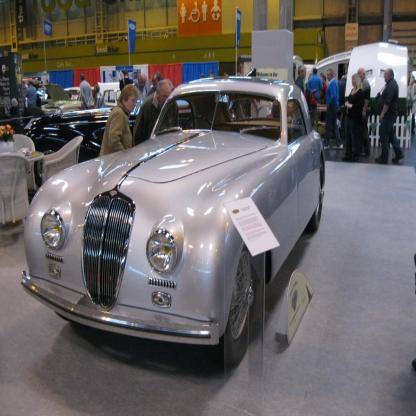Car: (23, 65, 327, 368)
